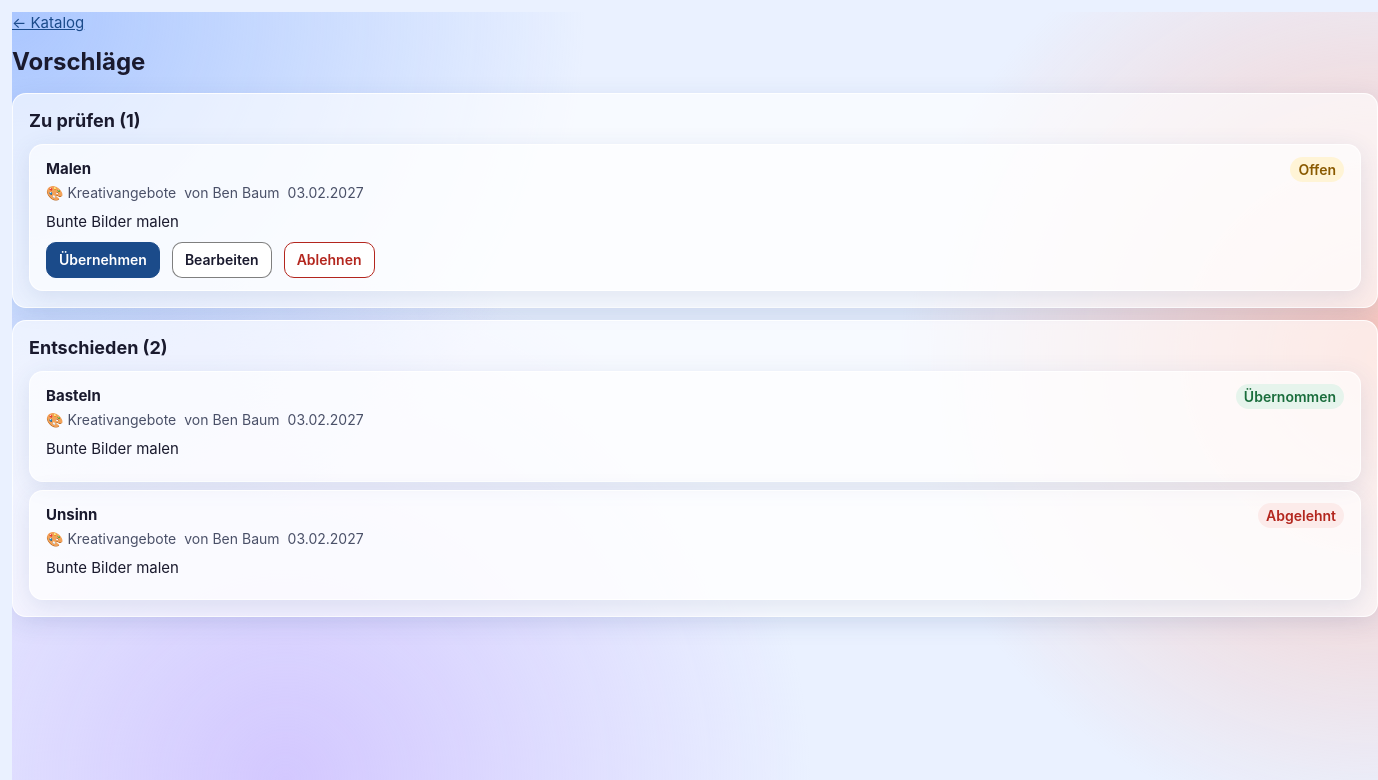
it: Vorschläge › meldet Fehler beim Übernehmen
Click the button with aria-label "Vorschlag „Malen“ übernehmen": (103,260) [46,242,160,278]
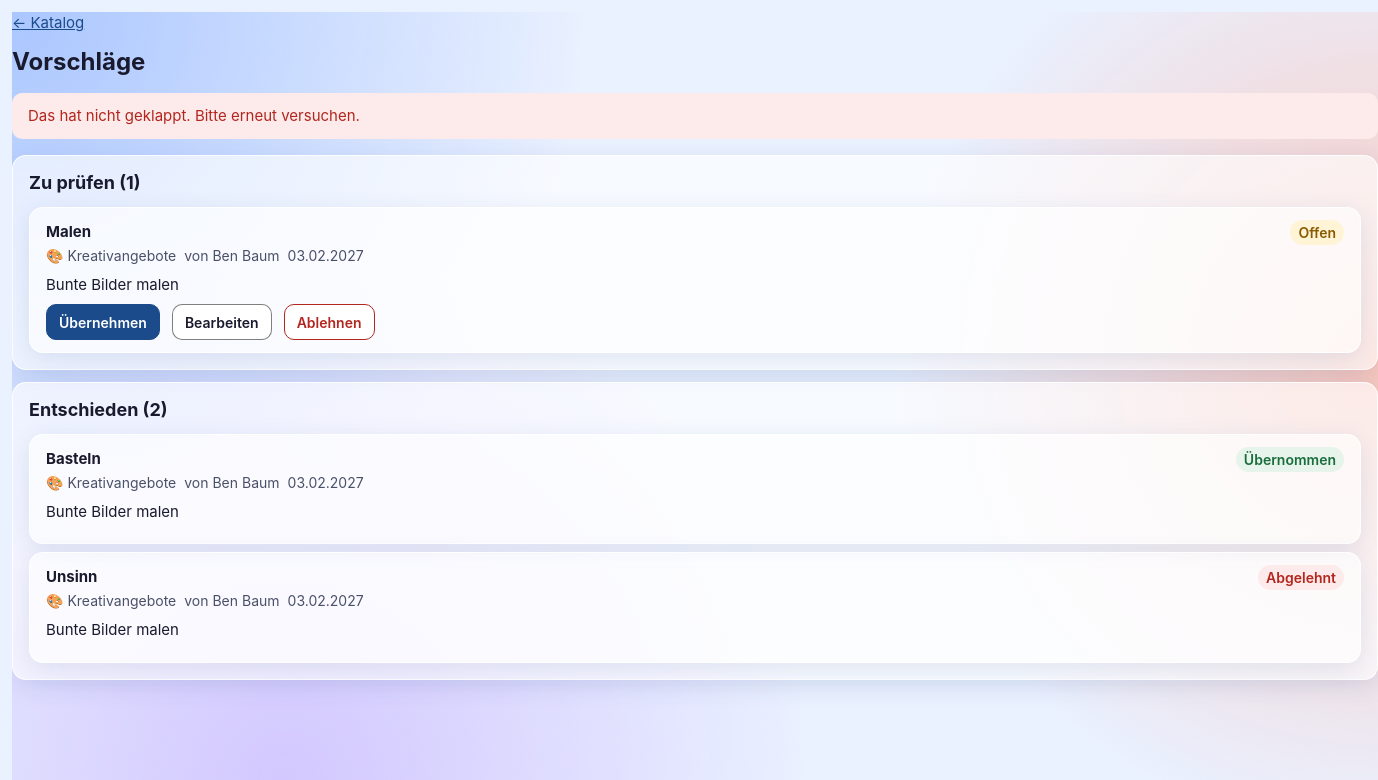
Expected: the message "Das hat nicht geklappt. Bitte erneut versuchen." is shown, [12,92,1377,139]
